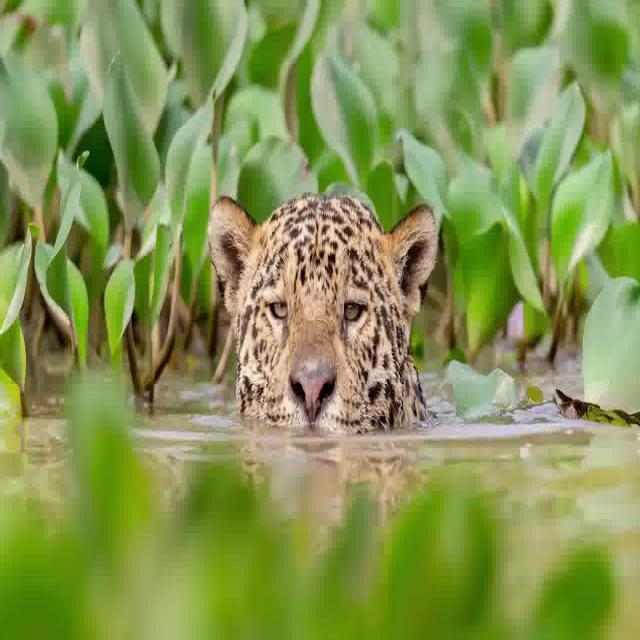Jaguar: (172, 126, 458, 480)
